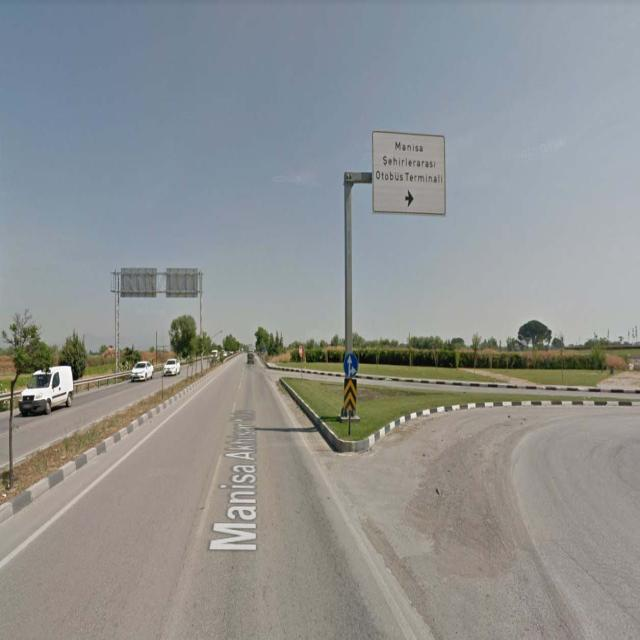ilerisag: (342, 352, 358, 378)
